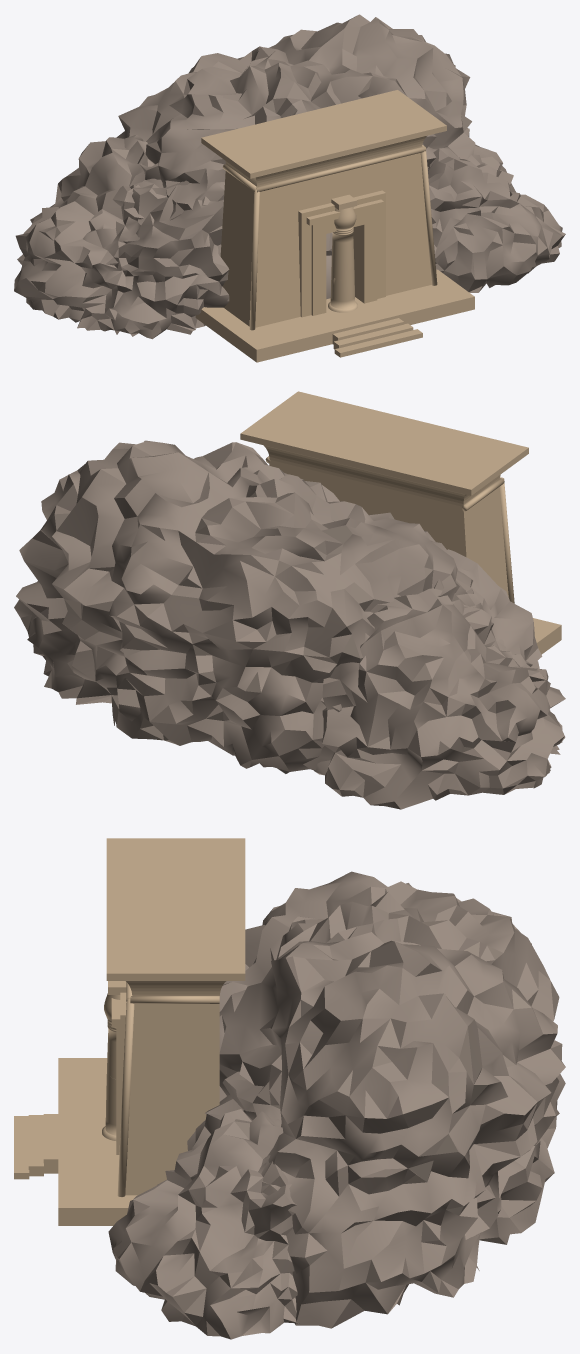
Rendered from temple.glb.
3 views of the same model, one above another, from view 1: azimuth 30°, elevation 25°; view 2: azimuth 150°, elevation 25°; view 3: azimuth 270°, elevation 25° (orthographic). The views are drawn at different scales.
Visible parts, largest first — view 1: rock, temple, column, column_broken; view 2: rock, temple; view 3: rock, temple, column.
Boxes of the visible parts, x1,y1,x2,y2 form: rock: [14, 14, 565, 339]; temple: [195, 90, 474, 362]; column: [328, 194, 357, 312]; column_broken: [328, 265, 356, 312]; rock: [14, 440, 565, 809]; temple: [240, 391, 561, 654]; rock: [108, 871, 565, 1339]; temple: [14, 838, 245, 1225]; column: [102, 981, 126, 1140].
Bounding box in the file's own units: 28.95 × 12.18 × 20.53.
